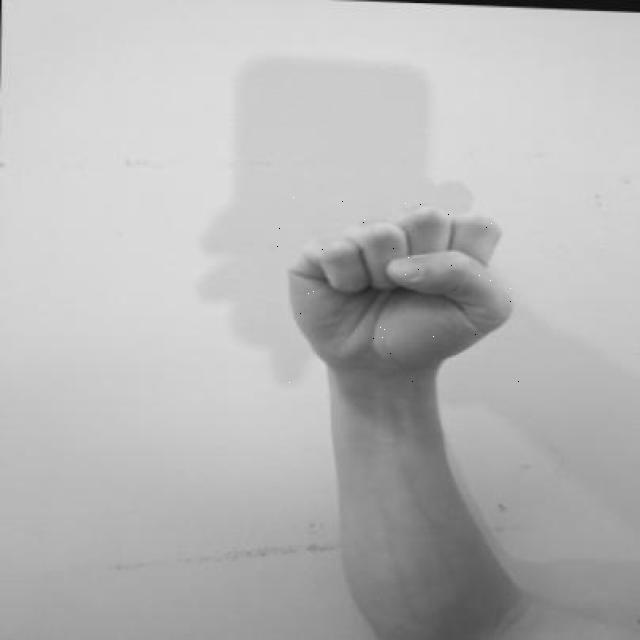S: (276, 197, 523, 384)
